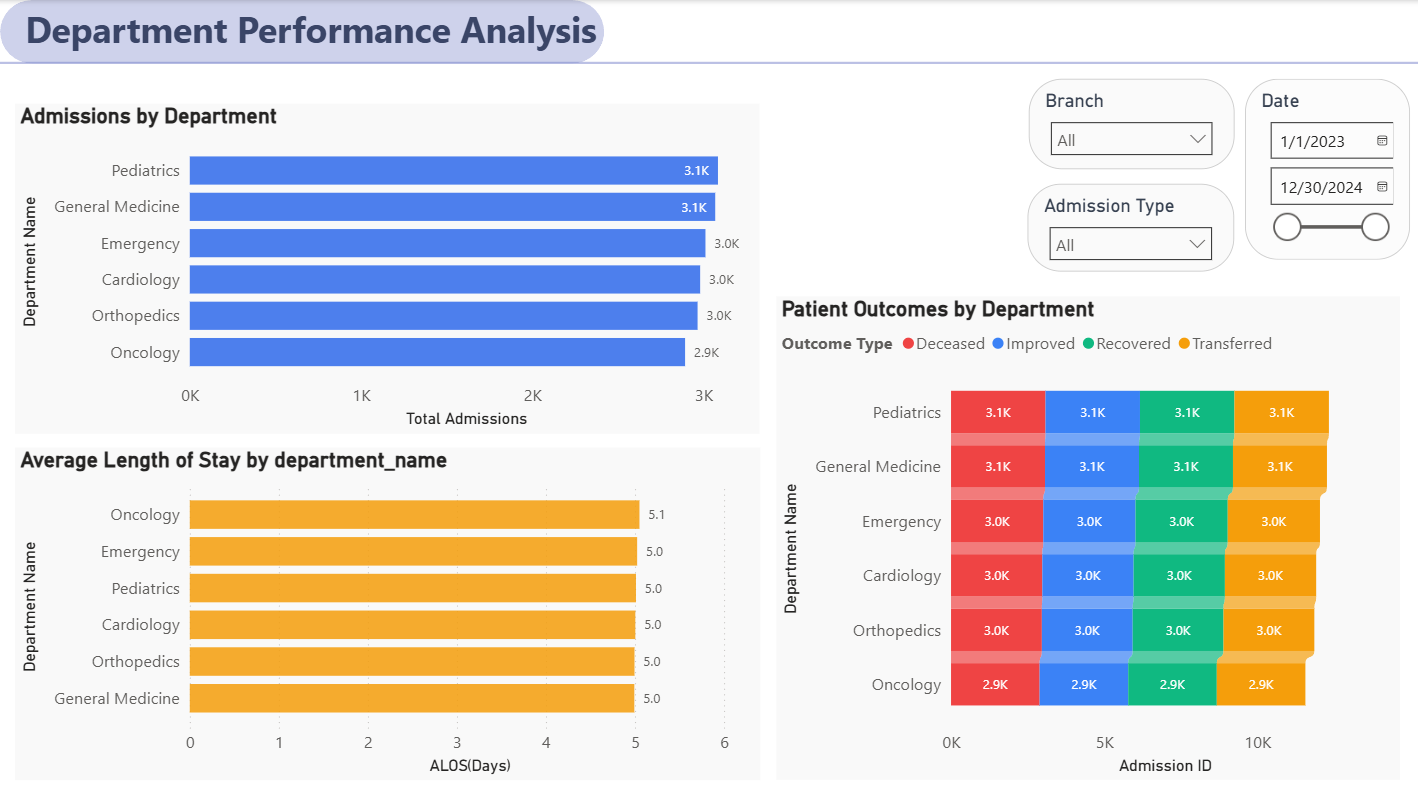

The dashboard page shown, as its layout file describes it:
{"tool":"powerbi","page":{"name":"Page 2","canvas":[1280,720],"ordinal":1},"visuals":[{"type":"textbox","box":[0,0,1280,57.5],"z":0},{"type":"clusteredBarChart","title":"Admissions by Department","fields":{"Category":["hospital_db dim_department.department_name"],"Y":["hospital_db fact_admission.Total Admissions"]},"box":[13.6,93.6,671.8,301.8],"z":1000},{"type":"clusteredBarChart","fields":{"Category":["hospital_db dim_department.department_name"],"Y":["hospital_db fact_admission.Average Length of Stay(Days)"]},"box":[14,404,672,300],"z":2000},{"type":"barChart","fields":{"Category":["hospital_db dim_department.department_name"],"Y":["CountNonNull(hospital_db fact_admission.admission_id)"],"Series":["hospital_db fact_outcome.outcome_type"]},"box":[700,244,562,392],"z":3000},{"type":"slicer","title":"Branch","fields":{"Values":["hospital_db dim_branch.branch_name"]},"box":[937.5,12.5,185,81.2],"z":4000},{"type":"slicer","title":"Date","fields":{"Values":["hospital_db fact_admission.admission_time"]},"box":[1127.1,12.4,148.8,164.1],"z":5000},{"type":"slicer","title":"Admission Type","fields":{"Values":["hospital_db fact_admission.admission_type"]},"box":[937.5,97.5,185,78.8],"z":6000},{"type":"shape","box":[0,0,545,57.5],"z":6001}]}

Visuals, with their boxes in screenshot pixels (x1, y1, x2, y2), scaled from the page's 1280x720 canvas onto the 1418x796 screenshot:
textbox: select_region(0, 0, 1417, 64)
"Admissions by Department" clusteredBarChart: select_region(15, 103, 759, 437)
clusteredBarChart - hospital_db dim_department.department_name x hospital_db fact_admission.Average Length of Stay(Days): select_region(16, 447, 760, 778)
barChart - hospital_db dim_department.department_name x CountNonNull(hospital_db fact_admission.admission_id): select_region(775, 270, 1398, 703)
"Branch" slicer: select_region(1039, 14, 1244, 104)
"Date" slicer: select_region(1249, 14, 1413, 195)
"Admission Type" slicer: select_region(1039, 108, 1244, 195)
shape: select_region(0, 0, 604, 64)
